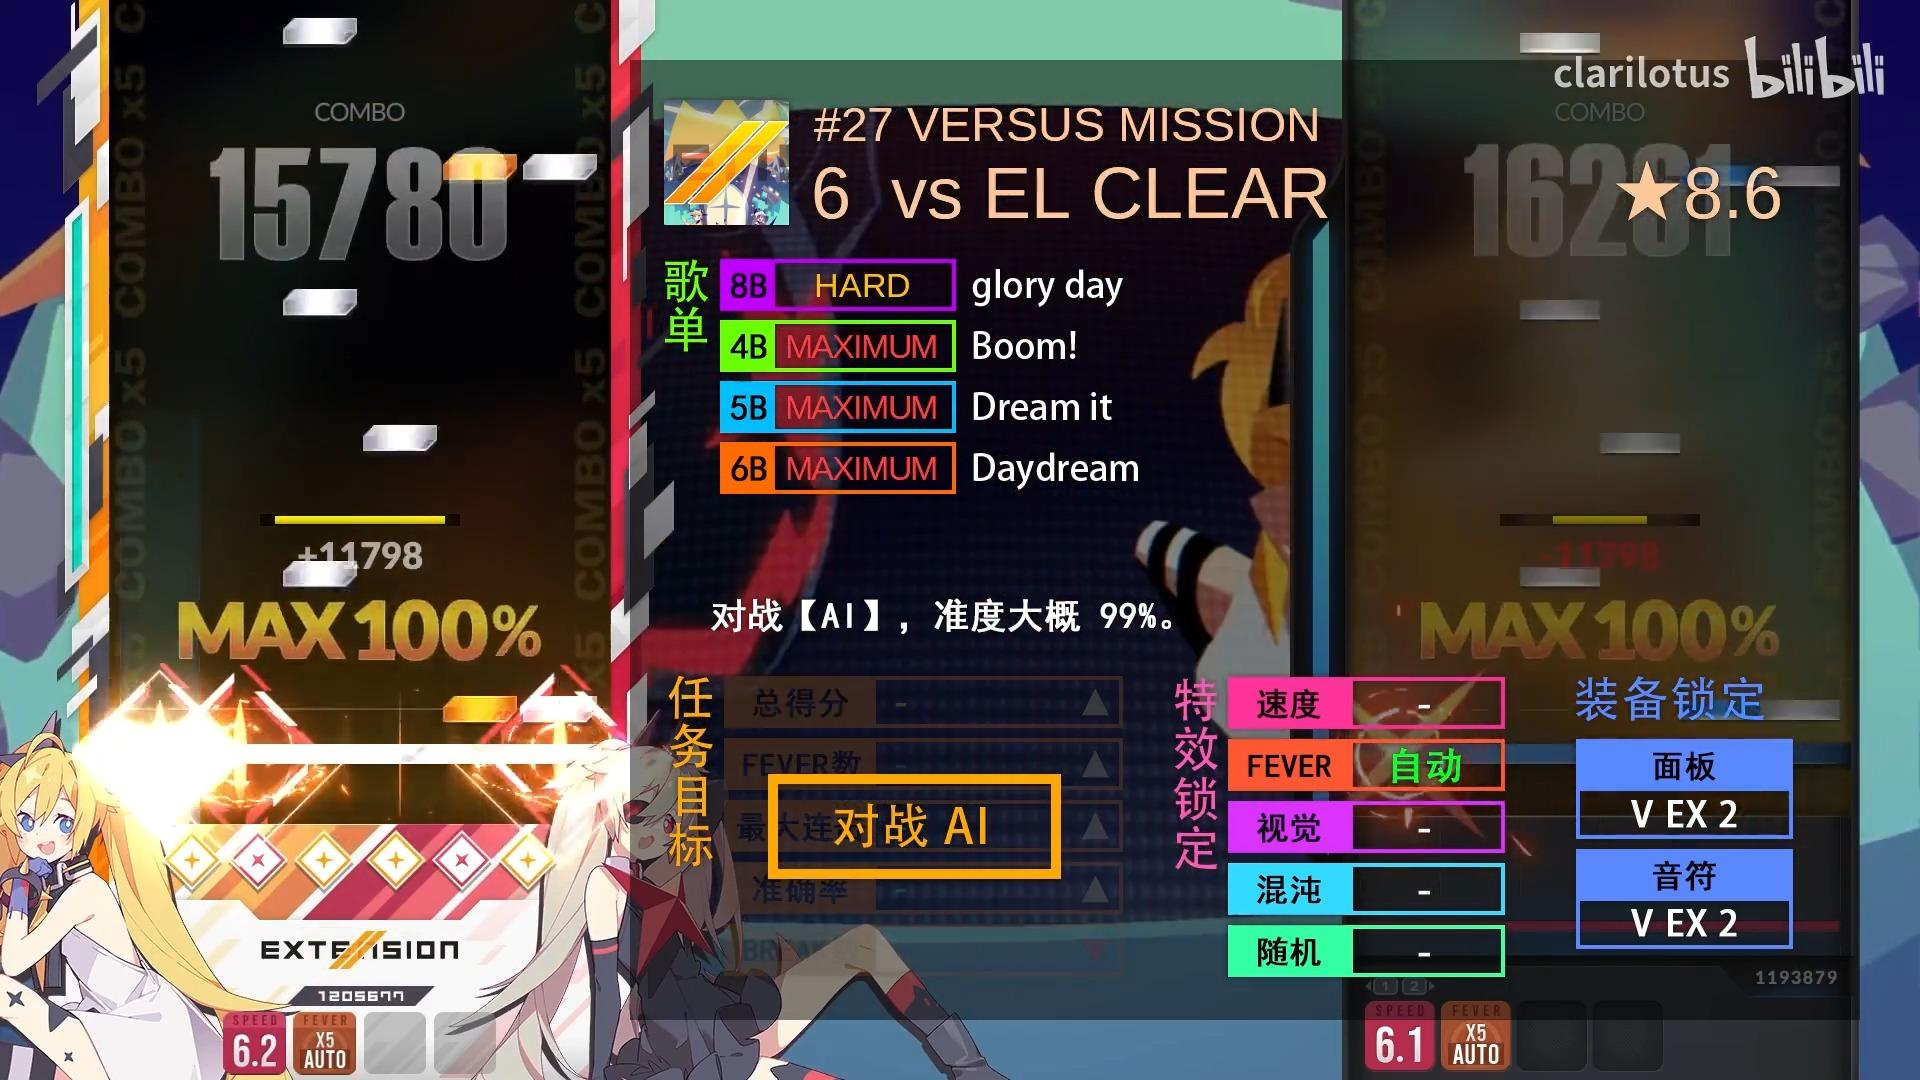note: (442, 695, 518, 724), (522, 695, 596, 724), (442, 153, 518, 181), (281, 560, 357, 588), (363, 425, 438, 452), (522, 153, 597, 179), (282, 289, 357, 315), (284, 17, 357, 44)
